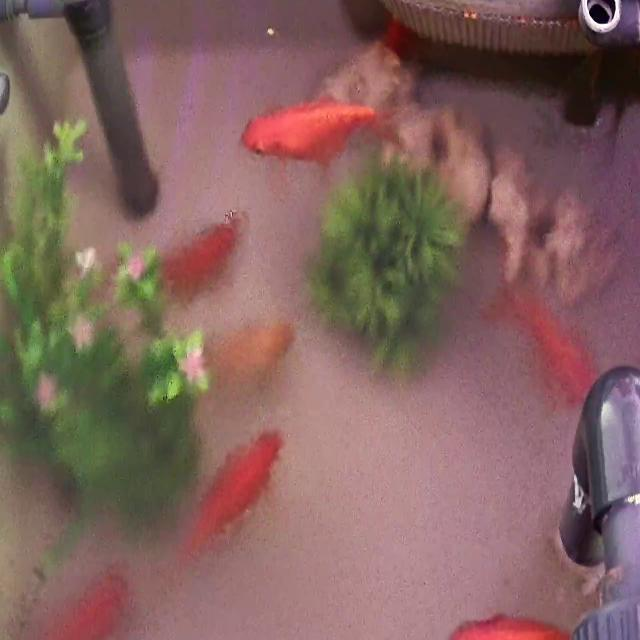fish: (182, 429, 285, 564), (490, 289, 595, 402), (0, 567, 132, 640), (243, 98, 367, 166), (159, 211, 247, 300), (203, 320, 292, 391), (446, 614, 572, 640)
